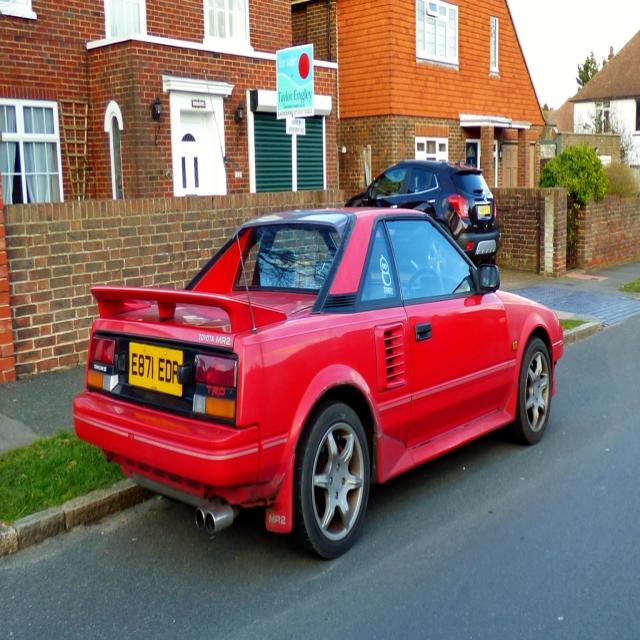car: (72, 69, 562, 558)
